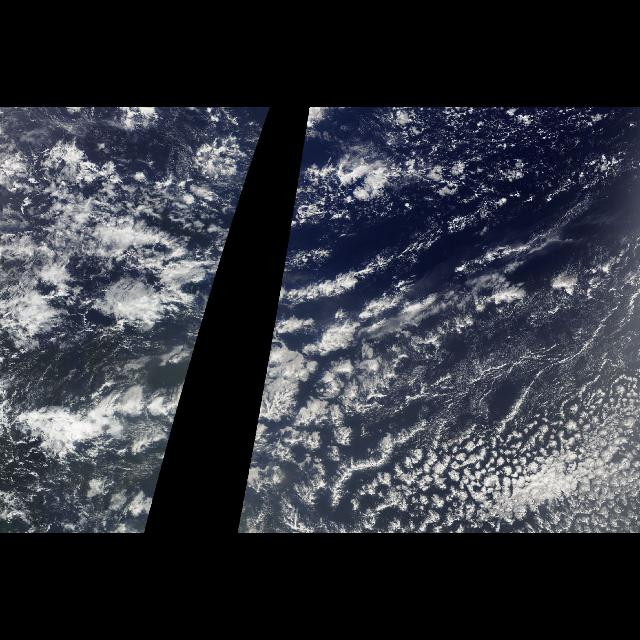Flower: (349, 388, 635, 530)
Gravel: (386, 406, 638, 530)
